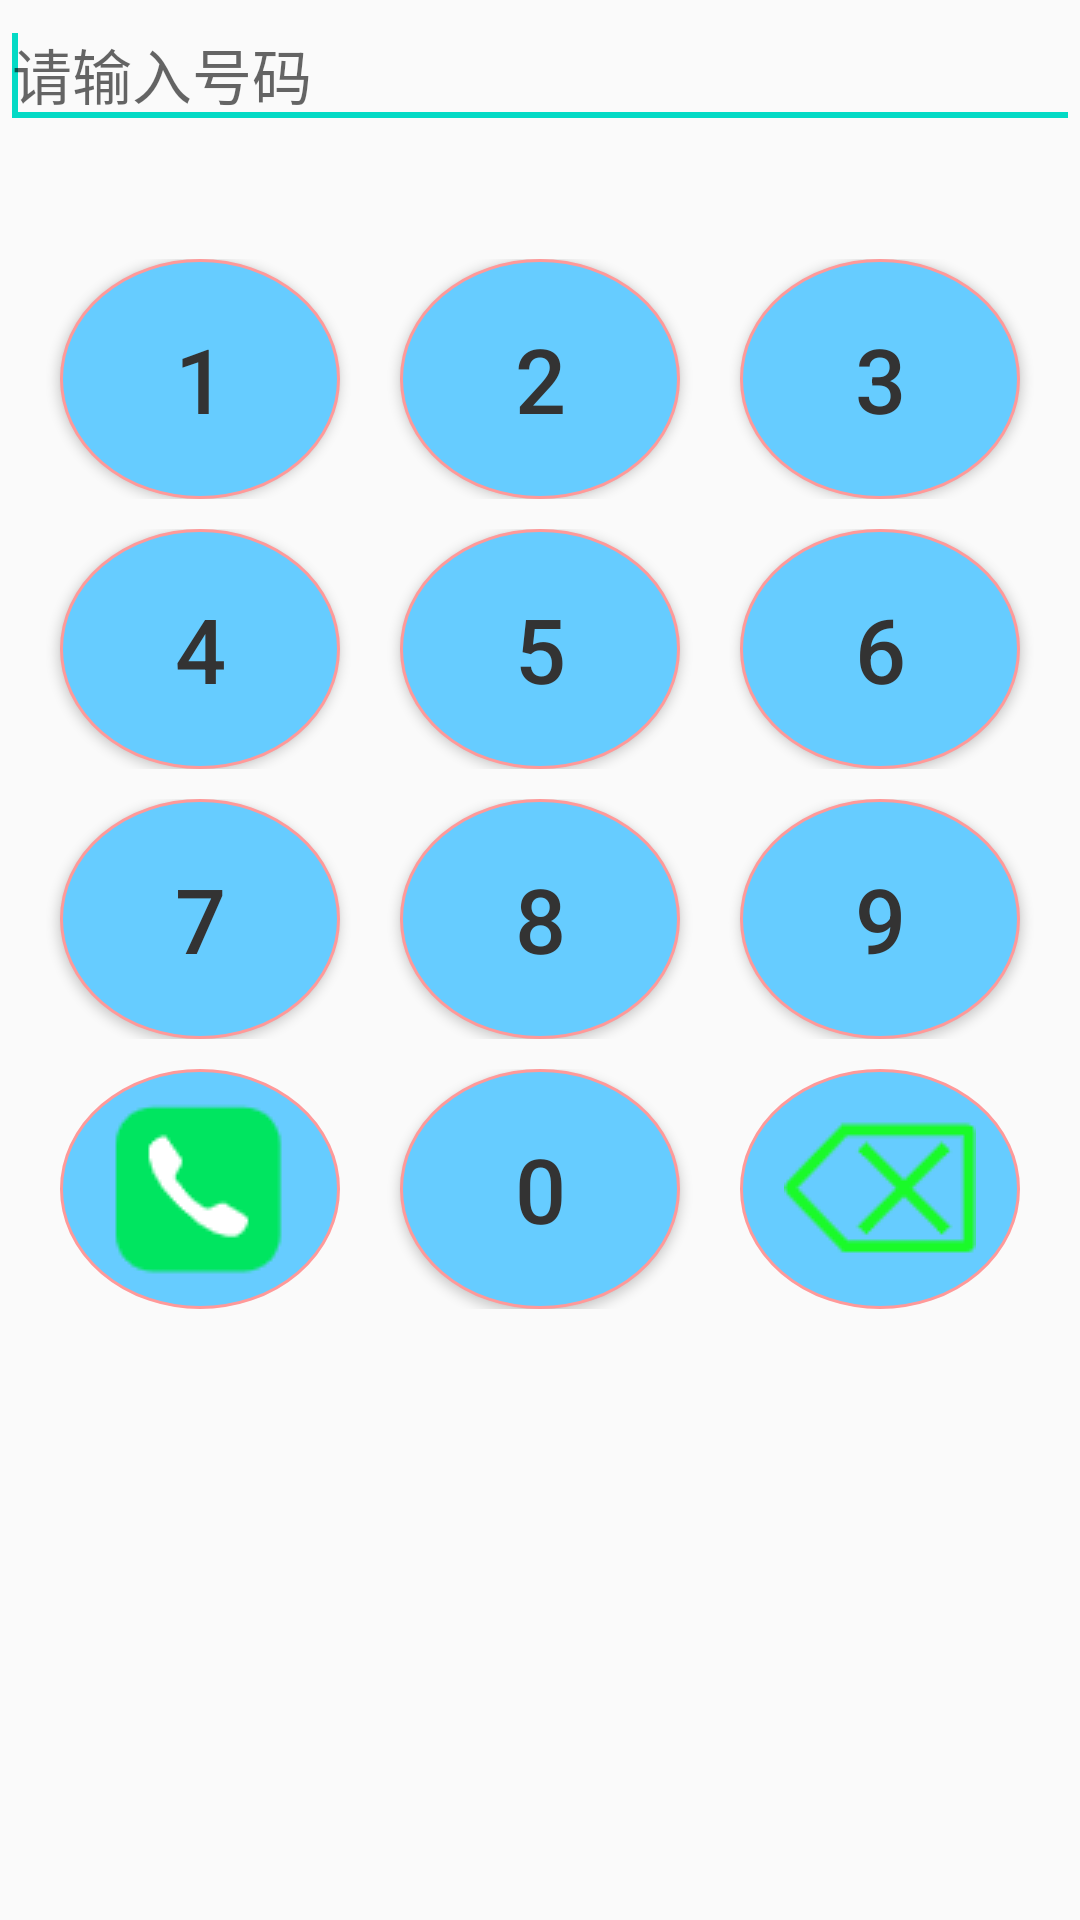

Locate icon controls on the screen. Image size 1080px x 1920px, boxes as (x1, y1, x2, y2).
call: (60, 1069, 340, 1309)
delete: (740, 1069, 1020, 1309)
